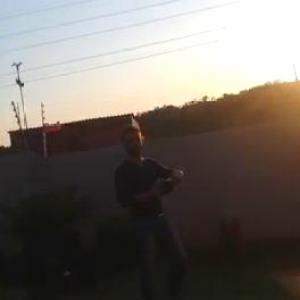follow: (109, 117, 193, 299)
